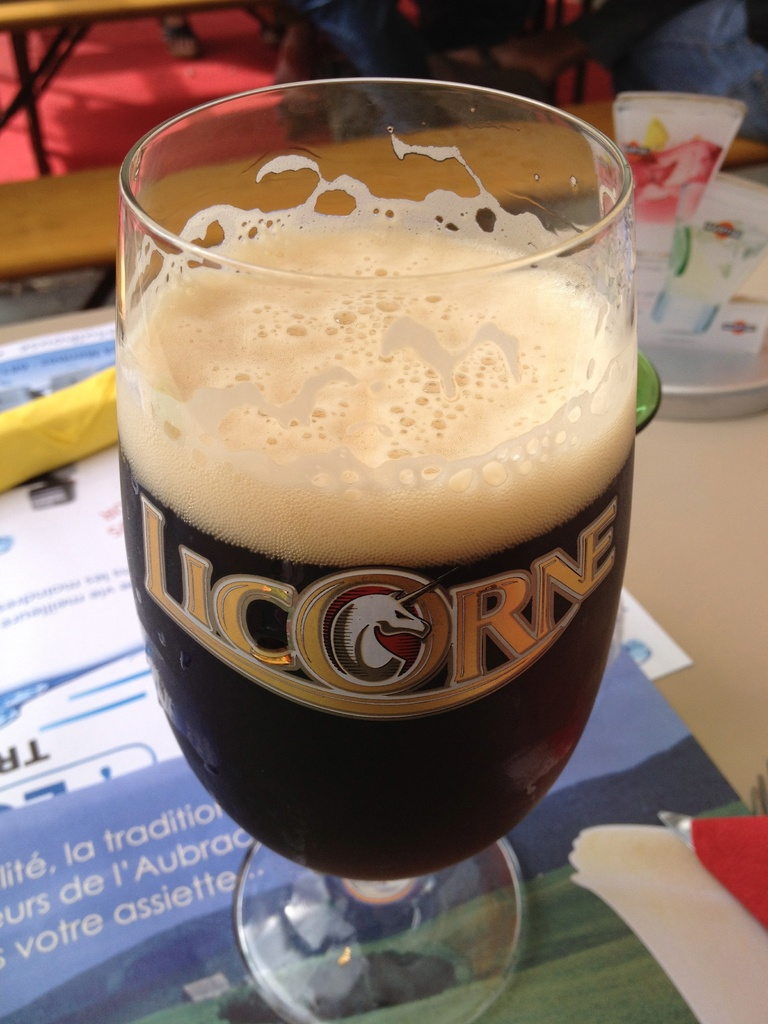Beer: (119, 75, 631, 1024)
